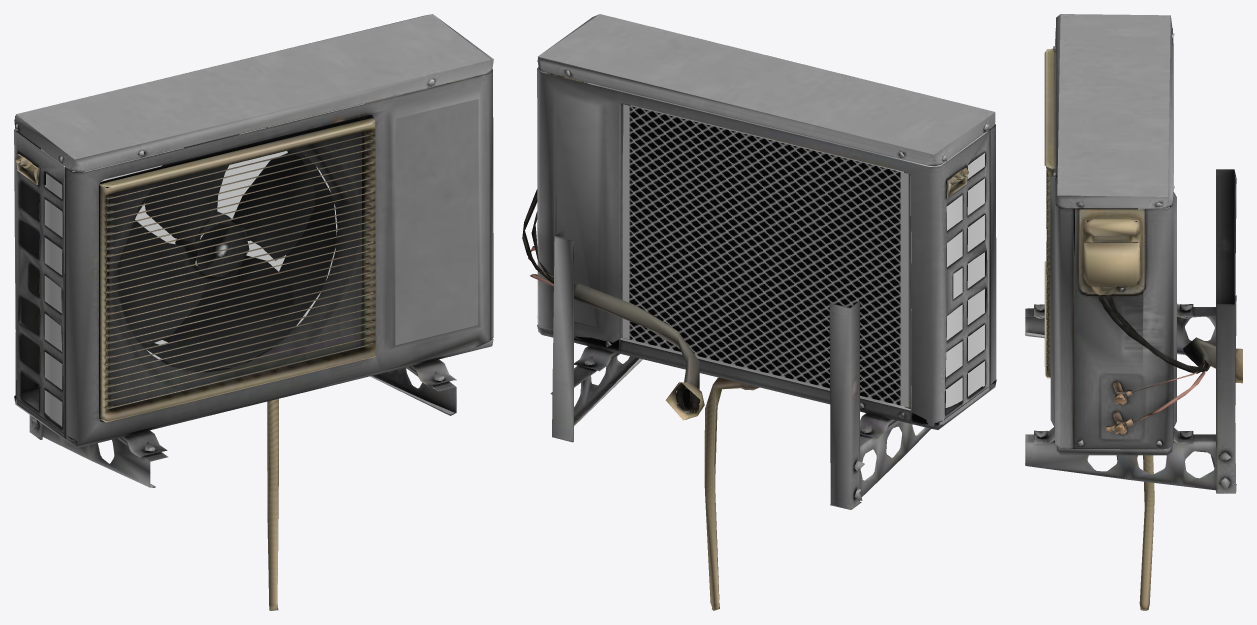
Rendered from aircon.glb.
3 renders of one model, left to right at view 1: azimuth 30°, elevation 25°; view 2: azimuth 150°, elevation 25°; view 3: azimuth 270°, elevation 25°, orthographic. The views are drawn at different scales.
Visible parts, largest first — view 1: exterior_aircon_unit; view 2: exterior_aircon_unit; view 3: exterior_aircon_unit.
Boxes of the visible parts, x1,y1,x2,y2 form: exterior_aircon_unit: [14, 14, 493, 610]; exterior_aircon_unit: [522, 14, 996, 610]; exterior_aircon_unit: [1025, 14, 1242, 610].
Bounding box in the file's own units: 0.8001 × 0.9276 × 0.3748.
Materials: 2 (2 with a texture image).
